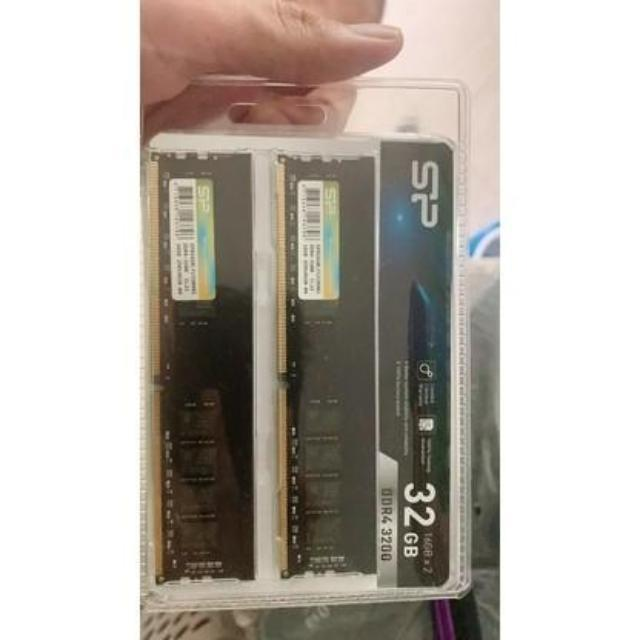RAM: (144, 140, 267, 597), (272, 146, 384, 588)
